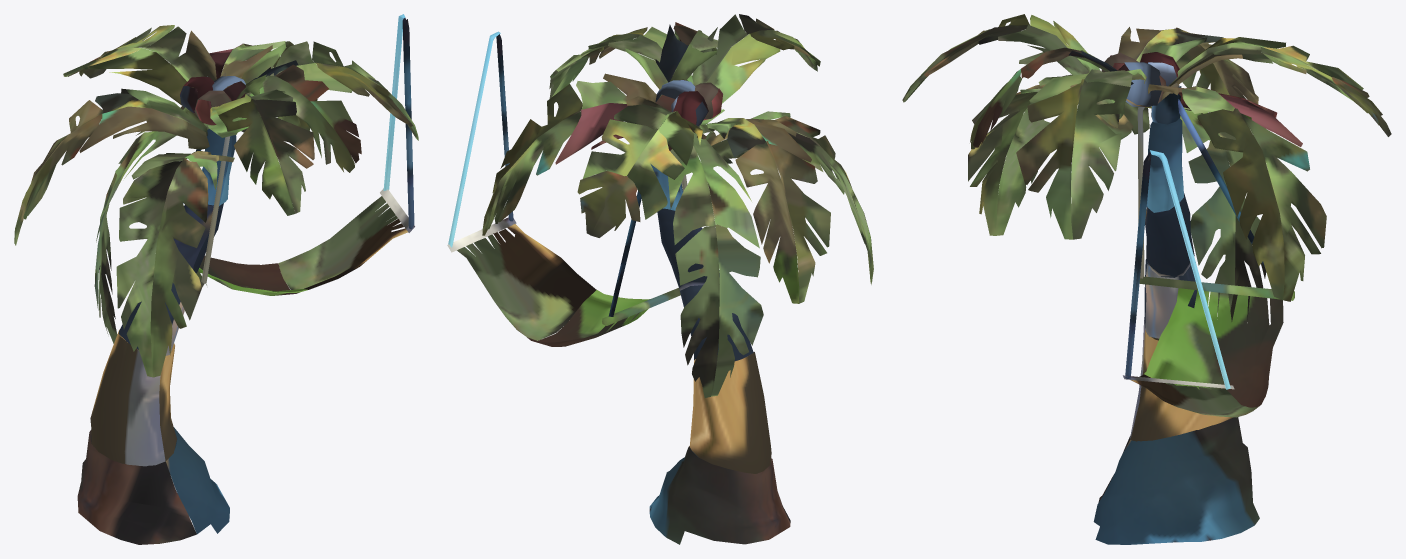
Rendered from Beach_Tavern_Hammock.glb.
3 views of the same model, side by side, from view 1: azimuth 30°, elevation 25°; view 2: azimuth 150°, elevation 25°; view 3: azimuth 270°, elevation 25° (orthographic). The views are drawn at different scales.
Visible parts, largest first — view 1: Object_2.008; view 2: Object_2.008; view 3: Object_2.008.
Part boxes in pixels (left/top/right/bottom): Object_2.008: left=14, top=14, right=418, bottom=544; Object_2.008: left=447, top=14, right=873, bottom=544; Object_2.008: left=902, top=14, right=1391, bottom=544.
Bounding box in the file's own units: 26.03 × 30.5 × 25.68.
1 material, 1 textured.
